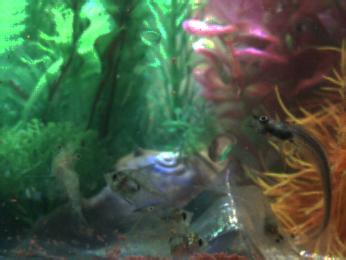X-ray fish: (115, 207, 196, 248), (135, 220, 212, 257), (104, 167, 171, 209)
glassfish: (256, 114, 332, 254)
siberian prawn: (212, 178, 298, 249), (48, 145, 88, 225)
